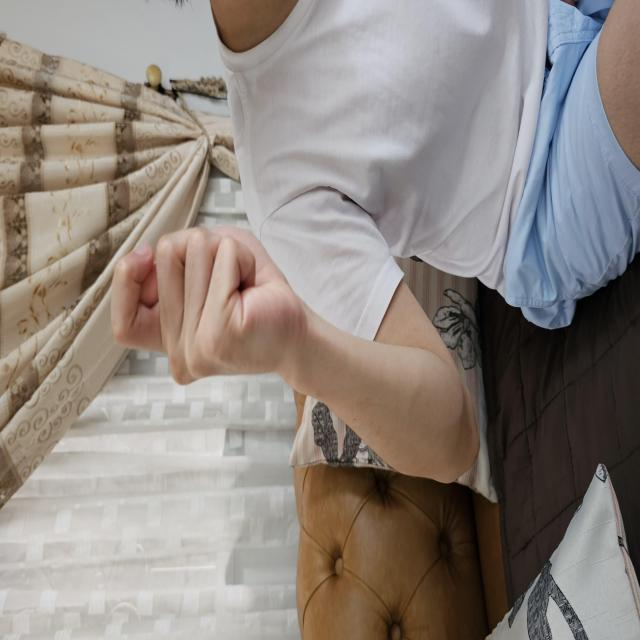T: (252, 109, 418, 308)
